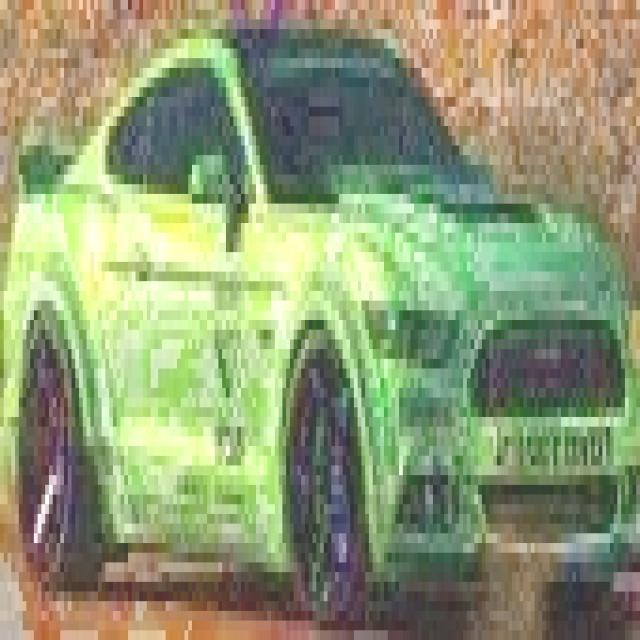green: (0, 24, 640, 635)
